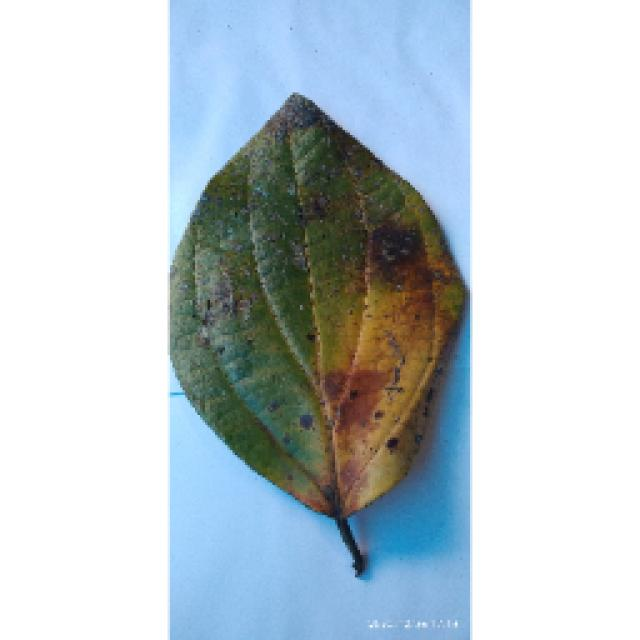slow-decline: (162, 90, 472, 605)
